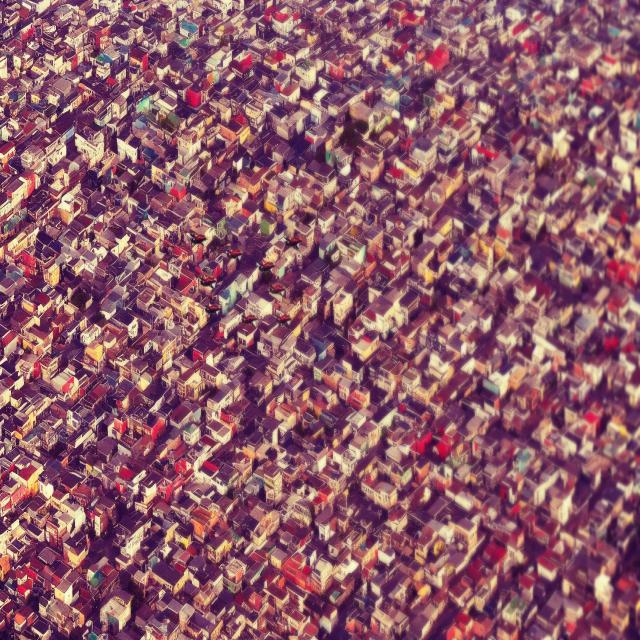airplane: (283, 232, 302, 252), (273, 308, 291, 326), (199, 272, 218, 288), (257, 258, 275, 274), (204, 299, 222, 315), (269, 284, 286, 300), (225, 244, 244, 258), (189, 230, 206, 244), (242, 310, 257, 323)
